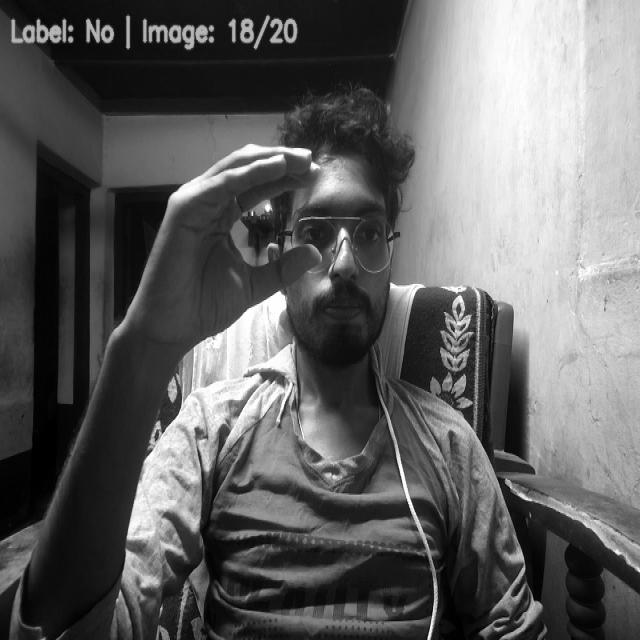No: (129, 138, 325, 369)
